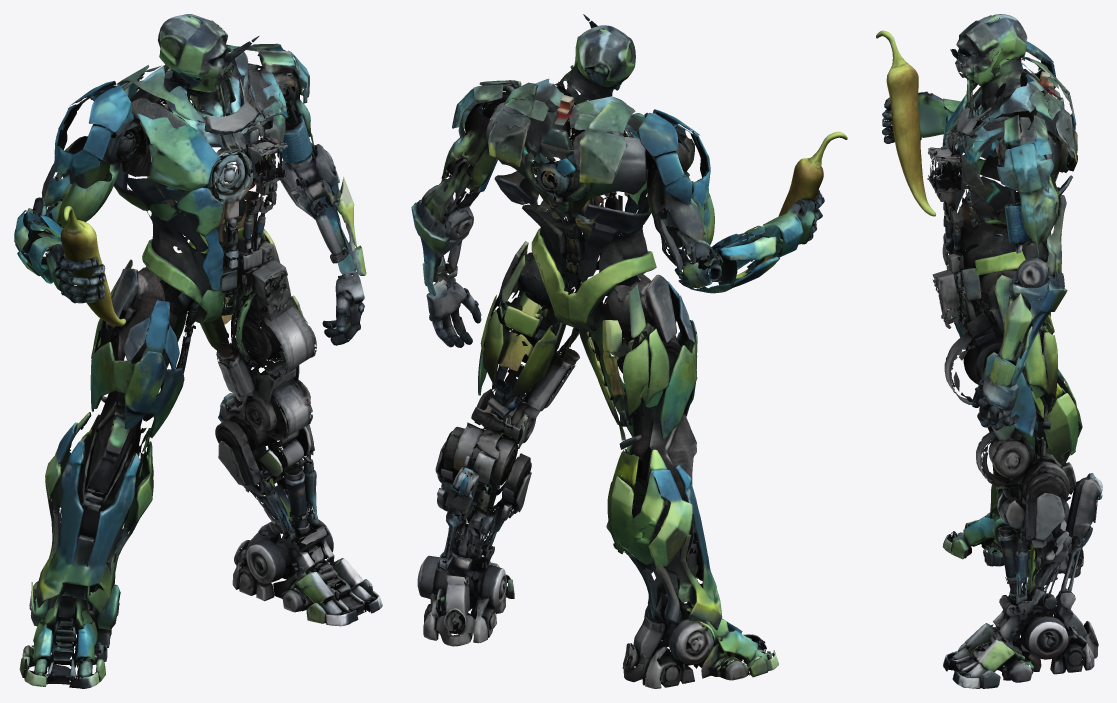
Rendered from ecomech-v4-b8532d8c.glb.
The picture shows the model from 3 angles, left to right: view 1: azimuth 30°, elevation 25°; view 2: azimuth 150°, elevation 25°; view 3: azimuth 270°, elevation 25°; orthographic projection. The views are drawn at different scales.
Parts seen in each view (by area): view 1: geometry_0; view 2: geometry_0; view 3: geometry_0.
Boxes of the visible parts, bbox=[...] form: geometry_0: bbox=[14, 14, 382, 688]; geometry_0: bbox=[411, 14, 847, 688]; geometry_0: bbox=[876, 14, 1102, 688].
Size of the model in its own units: 0.6188 by 0.9974 by 0.3476.
Materials: 1 (1 with a texture image).
